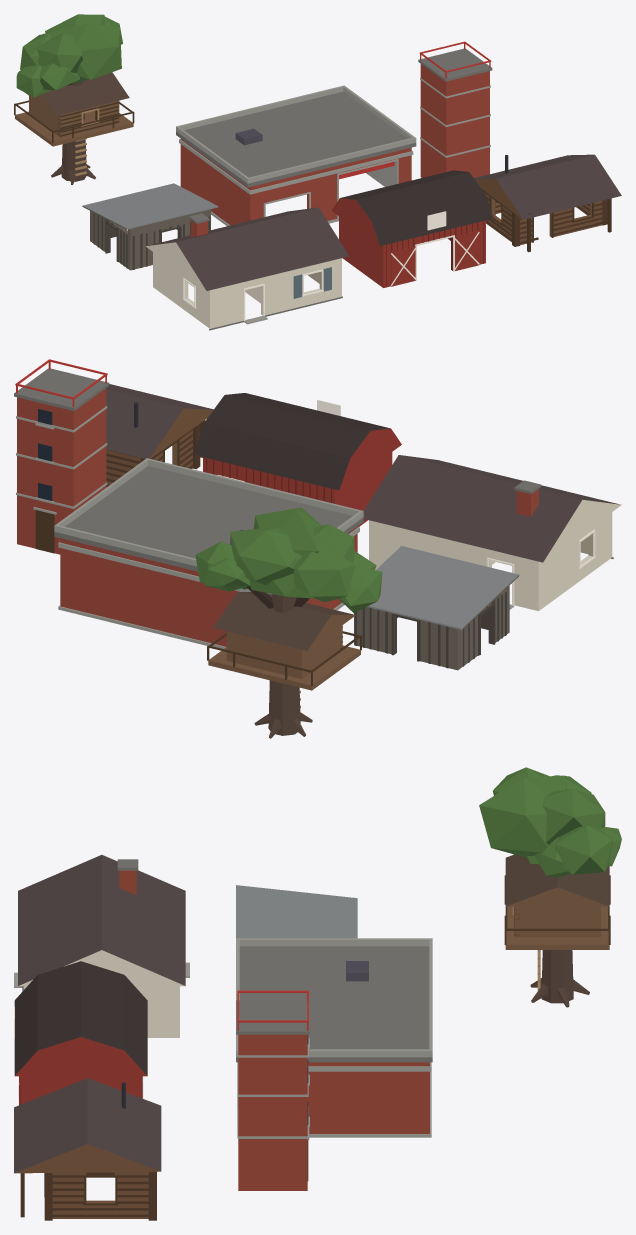
File: map_buildings.glb
3 views of the same model, one above another, from view 1: azimuth 30°, elevation 25°; view 2: azimuth 150°, elevation 25°; view 3: azimuth 270°, elevation 25° (orthographic). The views are drawn at different scales.
Parts seen in each view (by area): view 1: FireStationBuilding, Bungalow, TreehouseTree, Barn, RangerHut, TrainingTower, SwampShack; view 2: FireStationBuilding, TreehouseTree, Bungalow, Barn, TrainingTower, SwampShack, RangerHut; view 3: FireStationBuilding, TreehouseTree, Bungalow, RangerHut, Barn, TrainingTower, SwampShack.
Part boxes in pixels (bbox=[...]): FireStationBuilding: bbox=[176, 85, 416, 226]; Bungalow: bbox=[145, 207, 348, 330]; TreehouseTree: bbox=[14, 14, 134, 184]; Barn: bbox=[331, 170, 493, 287]; RangerHut: bbox=[474, 154, 621, 252]; TrainingTower: bbox=[418, 41, 492, 177]; SwampShack: bbox=[82, 183, 218, 270]; FireStationBuilding: bbox=[54, 458, 363, 648]; TreehouseTree: bbox=[195, 507, 382, 738]; Bungalow: bbox=[363, 455, 621, 611]; Barn: bbox=[193, 393, 401, 526]; TrainingTower: bbox=[14, 359, 109, 554]; SwampShack: bbox=[354, 546, 519, 670]; RangerHut: bbox=[106, 384, 213, 487]; FireStationBuilding: bbox=[236, 938, 432, 1137]; TreehouseTree: bbox=[479, 767, 621, 1007]; Bungalow: bbox=[14, 855, 189, 1037]; RangerHut: bbox=[14, 1078, 161, 1220]; Barn: bbox=[14, 961, 147, 1105]; TrainingTower: bbox=[236, 990, 309, 1190]; SwampShack: bbox=[236, 885, 357, 938].
Size of the model in its own units: 113 by 42.17 by 105.
1 material, 1 textured.
